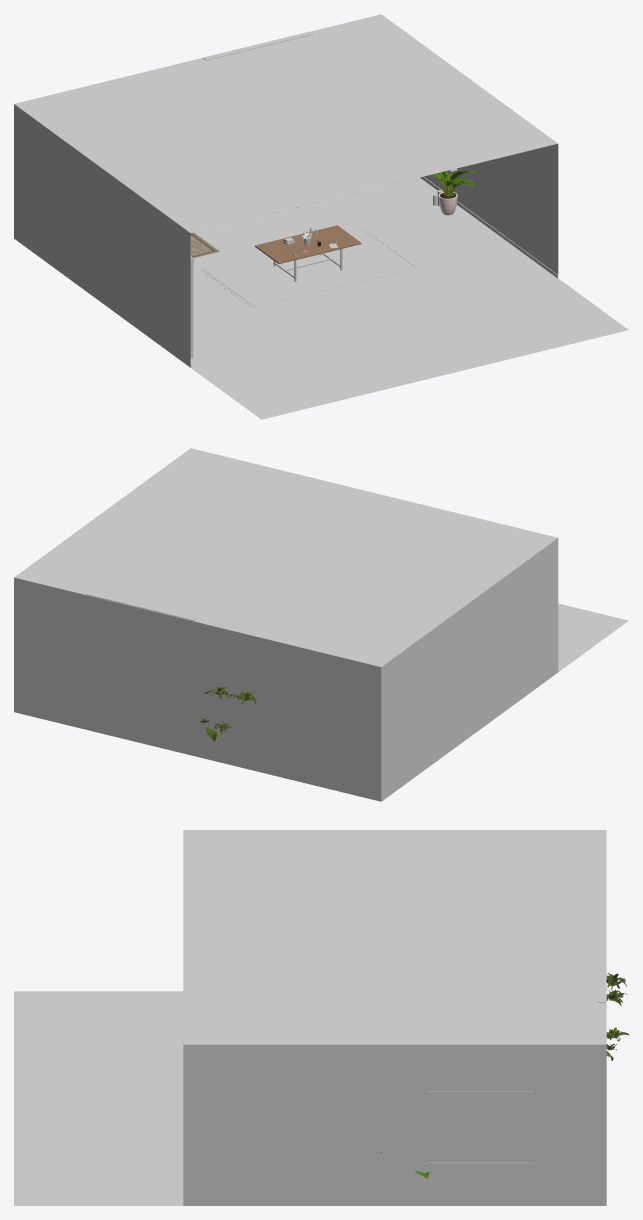
File: room.glb
The picture shows the model from 3 angles, top to bottom: view 1: azimuth 30°, elevation 25°; view 2: azimuth 150°, elevation 25°; view 3: azimuth 270°, elevation 25°; orthographic projection. The views are drawn at different scales.
Parts seen in each view (by area): view 1: Room · baked, Glossy · desk top, Textured · props; view 2: Room · baked, Textured · props; view 3: Room · baked, Textured · props.
Part boxes in pixels (bbox=[...]): Room · baked: bbox=[14, 14, 628, 419]; Glossy · desk top: bbox=[255, 225, 361, 263]; Textured · props: bbox=[190, 170, 475, 257]; Room · baked: bbox=[14, 448, 628, 801]; Textured · props: bbox=[197, 686, 257, 740]; Room · baked: bbox=[14, 830, 606, 1205]; Textured · props: bbox=[380, 973, 628, 1178].
Size of the model in its own units: 12.12 by 4.36 by 14.52.
Materials: 43 (29 with a texture image).
